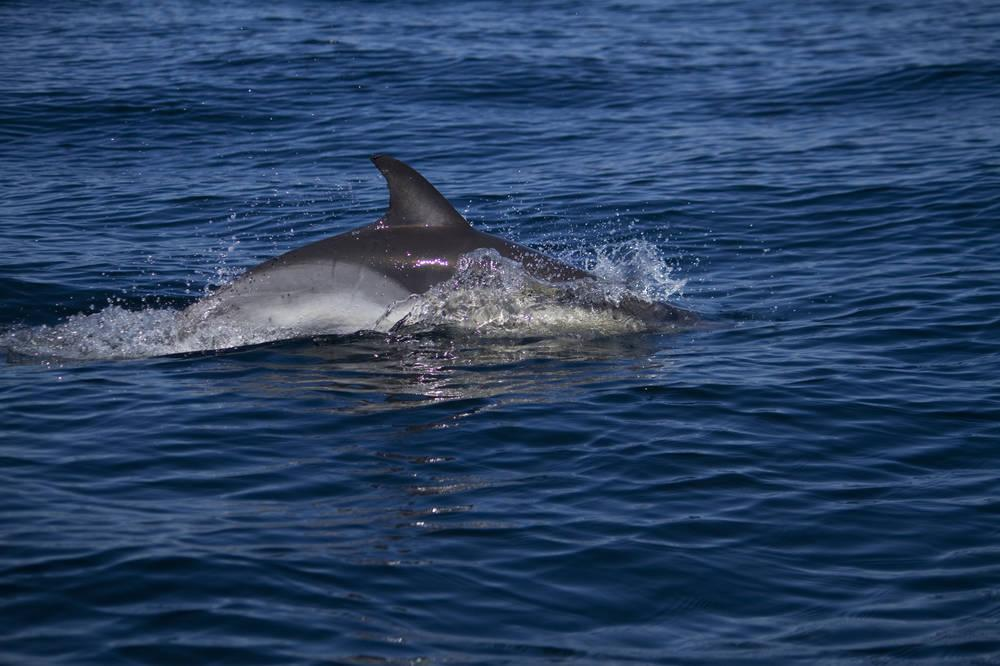fish: (77, 157, 724, 389)
